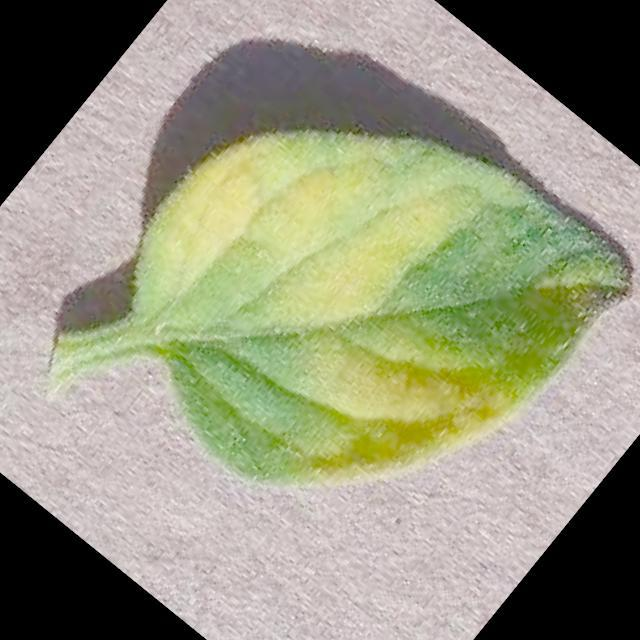Tomato mold leaf: (62, 2, 640, 594)
